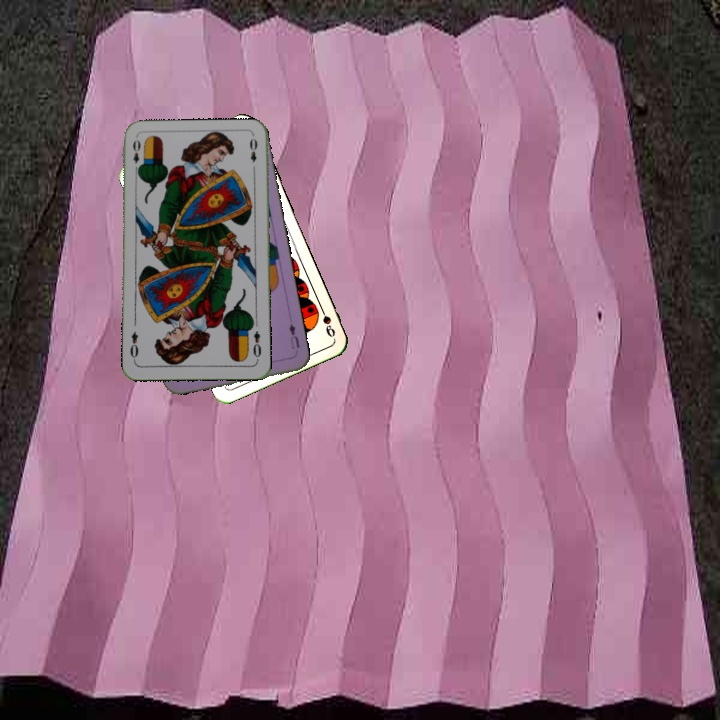EO: (129, 136, 144, 175), (249, 327, 264, 363)
EU: (285, 320, 302, 352)
S9: (315, 301, 338, 340)
